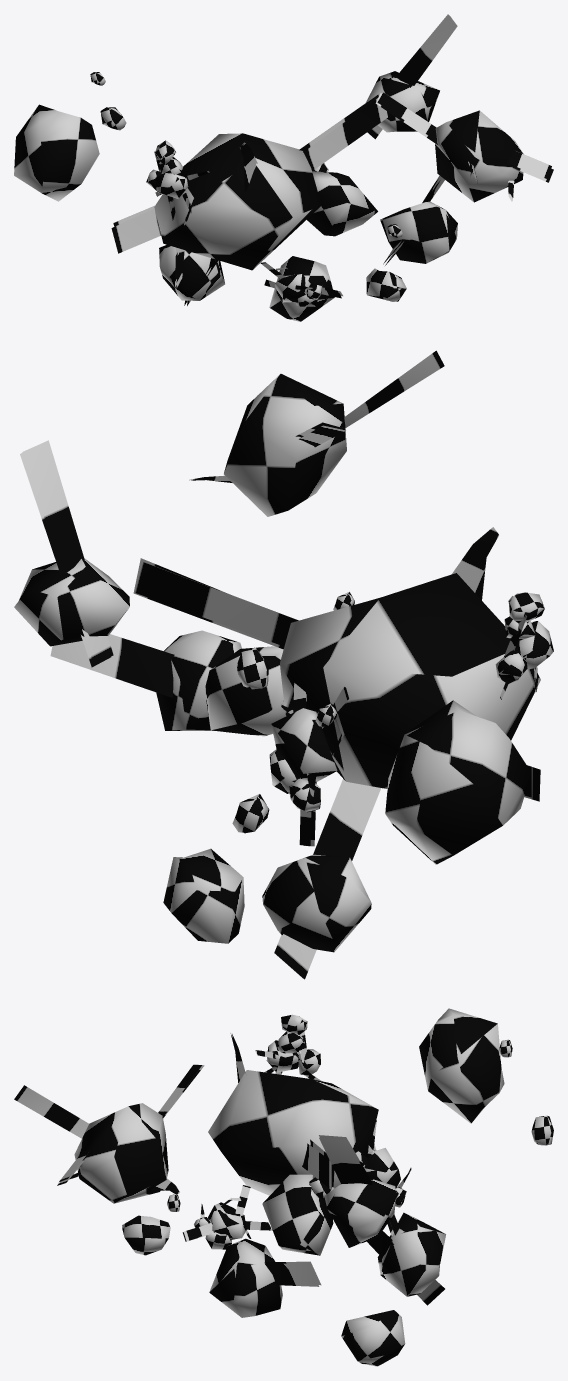
The model's file is zone_asteroid_pirates5.obj.
3 views of the same model, one above another, from view 1: azimuth 30°, elevation 25°; view 2: azimuth 150°, elevation 25°; view 3: azimuth 270°, elevation 25° (orthographic). The views are drawn at different scales.
Visible parts, largest first — view 1: cluster; view 2: cluster; view 3: cluster.
Part boxes in pixels (left/top/right/bottom): cluster: left=14, top=14, right=553, bottom=321; cluster: left=14, top=350, right=553, bottom=979; cluster: left=14, top=1008, right=553, bottom=1366.
Bounding box in the file's own units: 239 × 170 × 275.
Materials: 1 (1 with a texture image).
